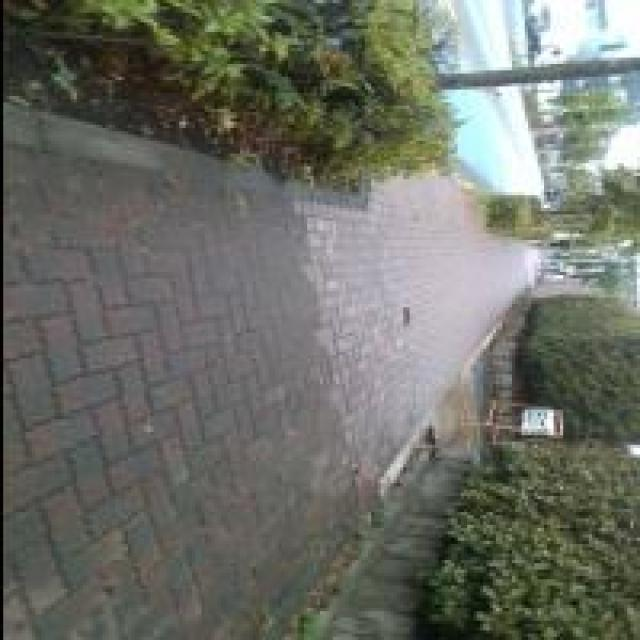Obstacle: (3, 0, 639, 190), (489, 201, 536, 228)
Road: (448, 87, 540, 196), (454, 0, 509, 69)
Sidewalk: (4, 105, 533, 639)
